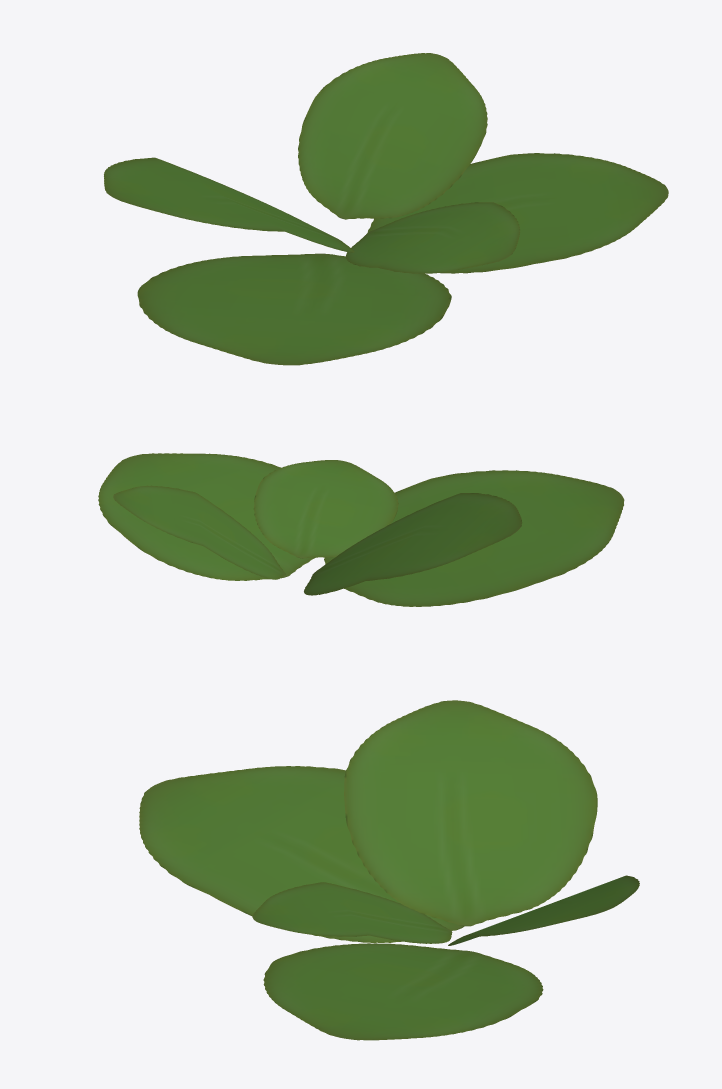
Rendered from WaterPlant02.glb.
The picture shows the model from 3 angles, top to bottom: view 1: azimuth 30°, elevation 25°; view 2: azimuth 150°, elevation 25°; view 3: azimuth 270°, elevation 25°; orthographic projection. The views are drawn at different scales.
Parts seen in each view (by area): view 1: PlantAqua02; view 2: PlantAqua02; view 3: PlantAqua02.
Part boxes in pixels (x1,y1,x2,y2): PlantAqua02: (104, 53, 668, 365); PlantAqua02: (98, 453, 624, 606); PlantAqua02: (139, 700, 639, 1040).
Size of the model in its own units: 0.5394 by 0.0949 by 0.4422.
1 material, 1 textured.
